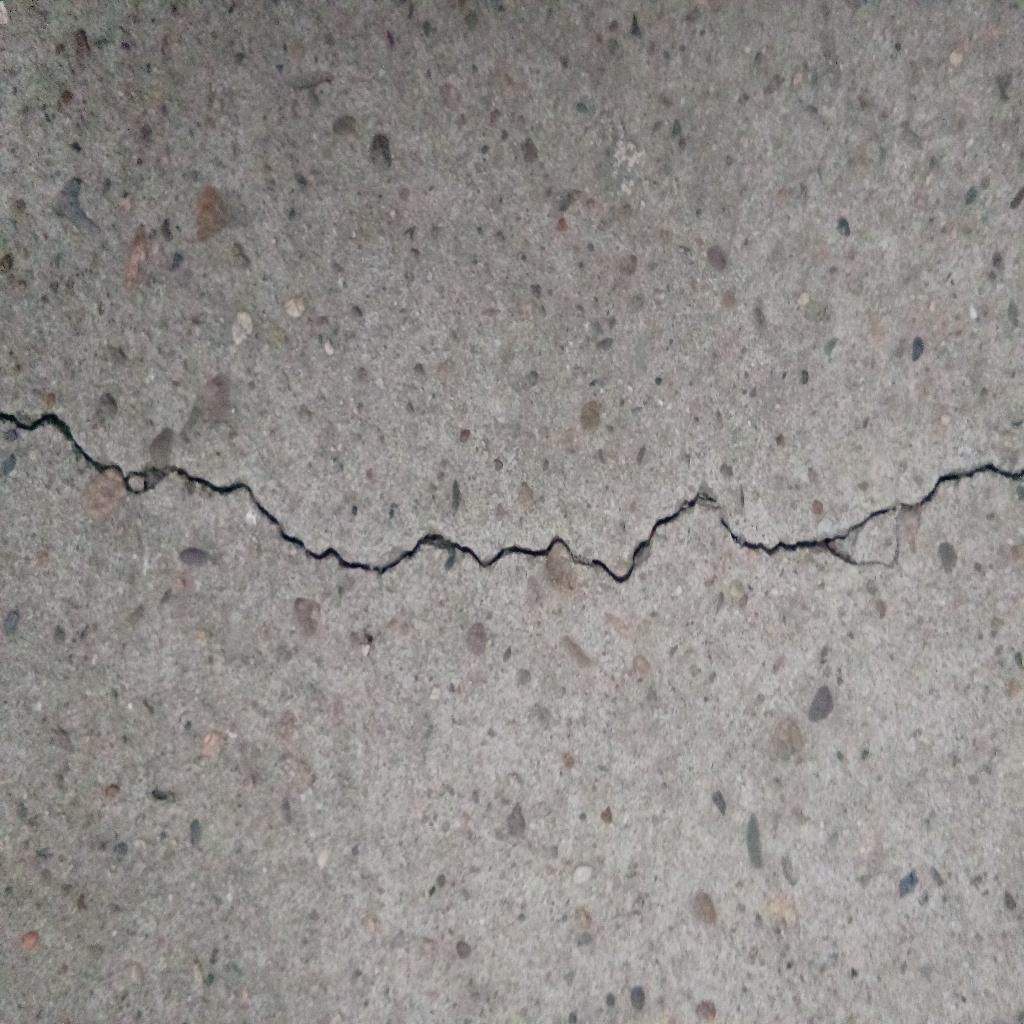Crack: (1, 412, 1024, 584)
